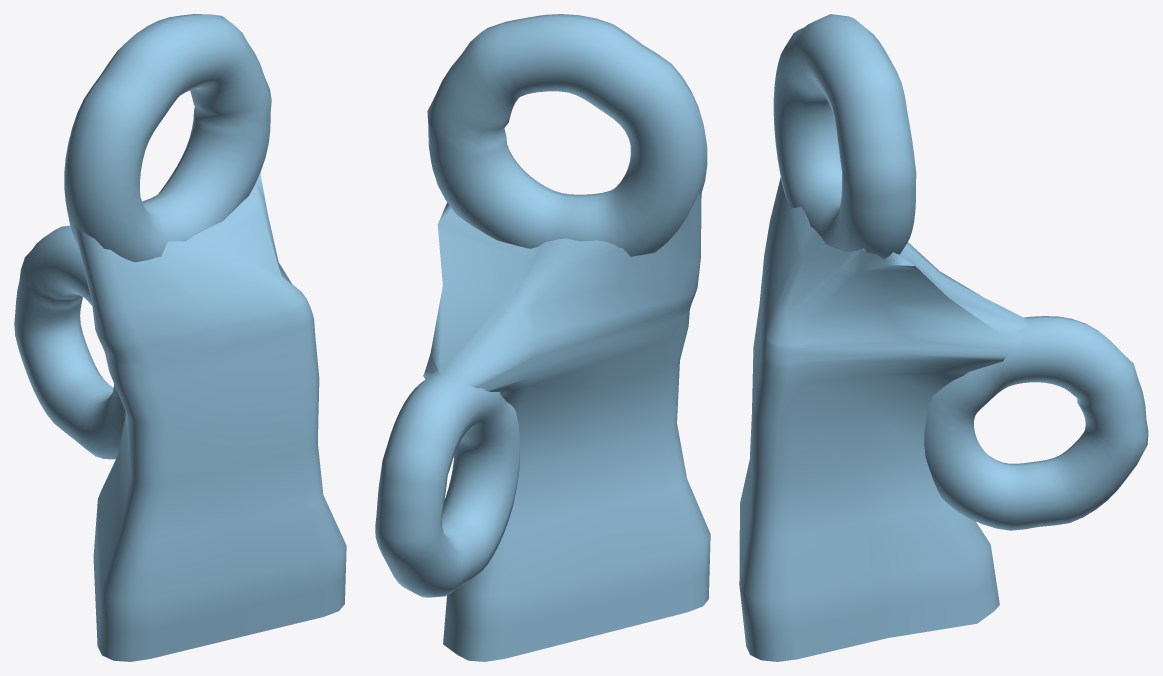
Rendered from Triangle_Top_Donut02.fbx.
3 views of the same model, side by side, from view 1: azimuth 30°, elevation 25°; view 2: azimuth 150°, elevation 25°; view 3: azimuth 270°, elevation 25° (orthographic). The views are drawn at different scales.
Parts seen in each view (by area): view 1: Torus; view 2: Torus; view 3: Torus.
Part boxes in pixels (box(x1,y1,x2,y2)): Torus: box(14, 14, 346, 661); Torus: box(375, 14, 710, 661); Torus: box(739, 14, 1148, 661).
Size of the model in its own units: 91.65 by 201 by 130.
